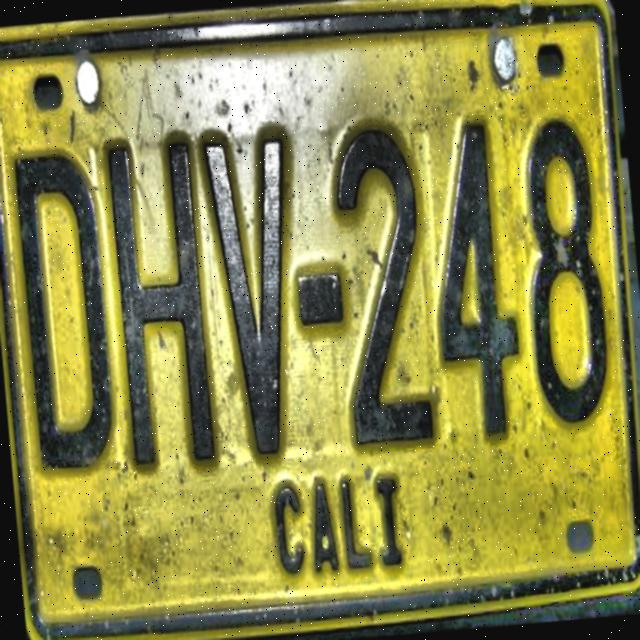2: (325, 115, 447, 452)
4: (418, 105, 534, 441)
8: (512, 110, 618, 433)
D: (7, 136, 122, 488)
H: (100, 126, 225, 482)
V: (200, 121, 312, 472)
